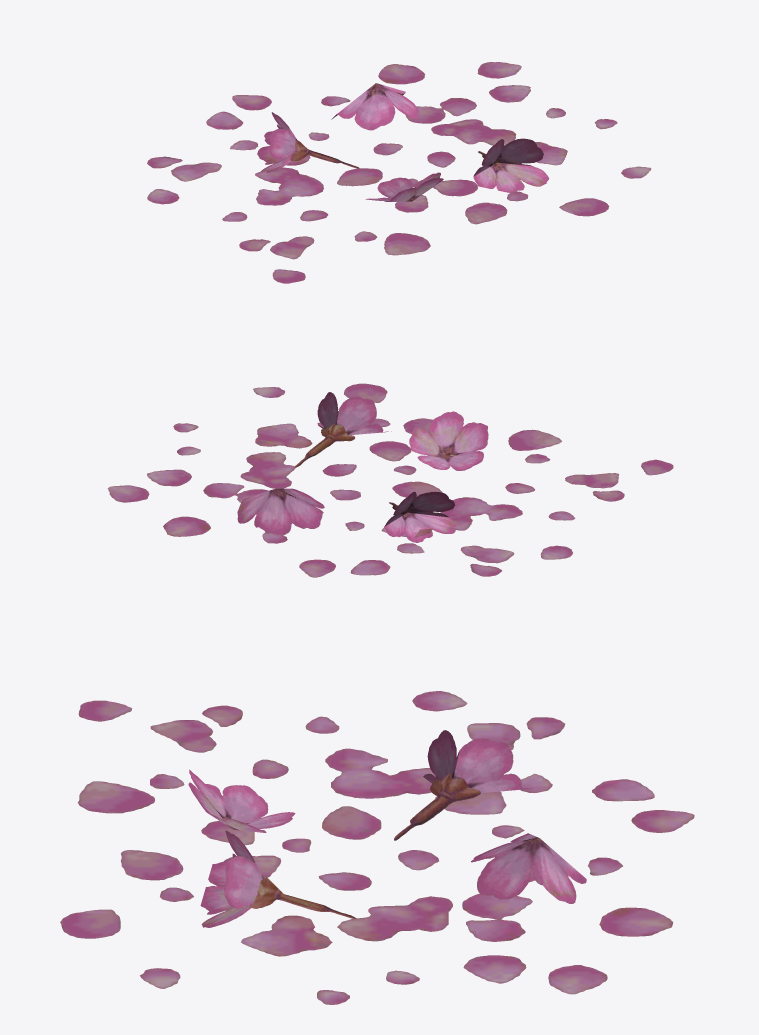
The model's file is 4006_Item_huanban_2.FBX.
The picture shows the model from 3 angles, top to bottom: view 1: azimuth 30°, elevation 25°; view 2: azimuth 150°, elevation 25°; view 3: azimuth 270°, elevation 25°; orthographic projection. The views are drawn at different scales.
Visible parts, largest first — view 1: 4006_Item_huanban_2; view 2: 4006_Item_huanban_2; view 3: 4006_Item_huanban_2.
Part boxes in pixels (box(x1,y1,x2,y2)): 4006_Item_huanban_2: box(147, 62, 651, 283); 4006_Item_huanban_2: box(107, 383, 673, 577); 4006_Item_huanban_2: box(60, 691, 694, 1004).
Bounding box in the file's own units: 13.63 × 1.85 × 11.93.
